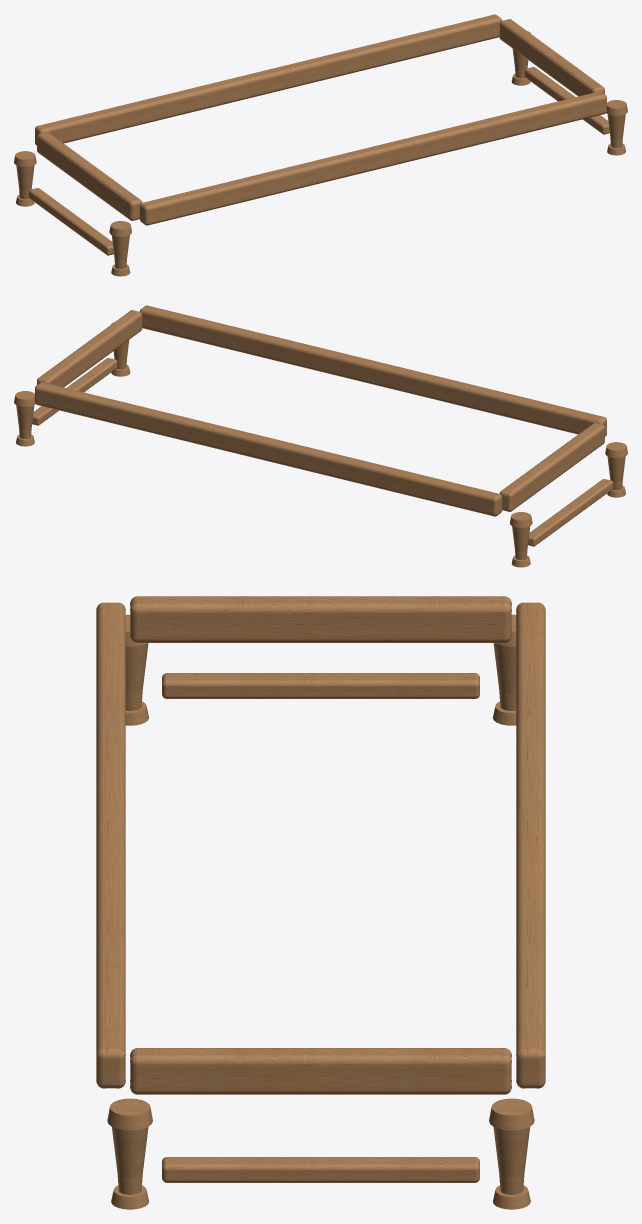
The model's file is sofa-wood.glb.
The picture shows the model from 3 angles, top to bottom: view 1: azimuth 30°, elevation 25°; view 2: azimuth 150°, elevation 25°; view 3: azimuth 270°, elevation 25°; orthographic projection. The views are drawn at different scales.
Visible parts, largest first — view 1: wood; view 2: wood; view 3: wood.
Part boxes in pixels (x1,y1,x2,y2): wood: [14, 14, 627, 276]; wood: [14, 305, 627, 567]; wood: [96, 596, 545, 1209].
Size of the model in its own units: 1.87 by 0.2322 by 0.7064.
Materials: 1 (1 with a texture image).
